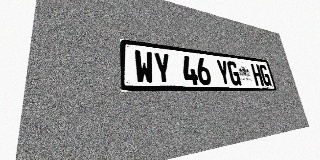4: (181, 55, 199, 85)
6: (195, 57, 212, 85)
G: (226, 61, 242, 85), (259, 64, 272, 86)
H: (250, 63, 264, 86)
W: (134, 50, 155, 84)
Y: (153, 52, 173, 84), (215, 59, 231, 85)
